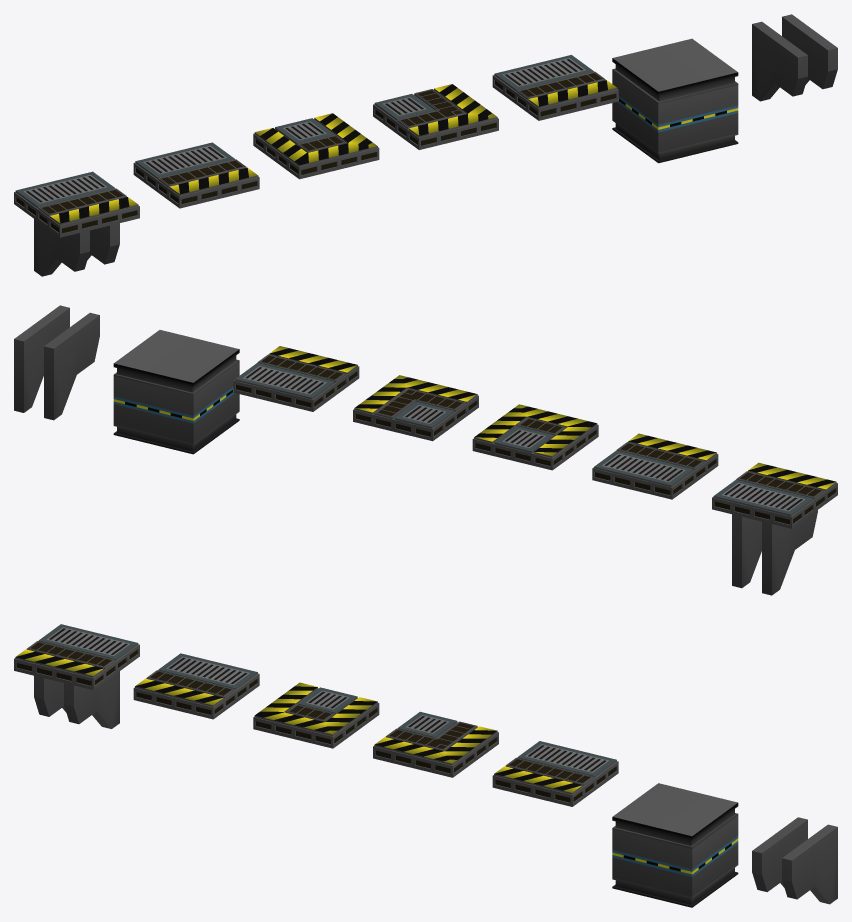
Rendered from PisoBorde.fbx.
3 views of the same model, one above another, from view 1: azimuth 30°, elevation 25°; view 2: azimuth 150°, elevation 25°; view 3: azimuth 330°, elevation 25° (orthographic).
Parts seen in each view (by area): view 1: BaseBorde01, PisoBordeCaida01, BaseBorde02, PisoBordeCaida03, PisoBordeCaida02, PisoBordeCaida005, PisoBordeCaida04; view 2: BaseBorde01, PisoBordeCaida01, BaseBorde02, PisoBordeCaida03, PisoBordeCaida02, PisoBordeCaida005, PisoBordeCaida04; view 3: BaseBorde01, PisoBordeCaida01, BaseBorde02, PisoBordeCaida03, PisoBordeCaida005, PisoBordeCaida02, PisoBordeCaida04.
Boxes of the visible parts, x1,y1,x2,y2 form: BaseBorde01: (612, 38, 738, 163); PisoBordeCaida01: (14, 171, 139, 276); BaseBorde02: (752, 14, 837, 101); PisoBordeCaida03: (253, 113, 379, 179); PisoBordeCaida02: (133, 142, 259, 208); PisoBordeCaida005: (492, 55, 618, 120); PisoBordeCaida04: (373, 84, 498, 149); BaseBorde01: (113, 330, 239, 454); PisoBordeCaida01: (712, 462, 837, 595); BaseBorde02: (14, 305, 99, 420); PisoBordeCaida03: (472, 404, 598, 470); PisoBordeCaida02: (592, 433, 718, 499); PisoBordeCaida005: (233, 346, 359, 411); PisoBordeCaida04: (353, 375, 478, 441); BaseBorde01: (612, 783, 738, 907); PisoBordeCaida01: (14, 624, 139, 728); BaseBorde02: (752, 817, 837, 904); PisoBordeCaida03: (253, 682, 379, 748); PisoBordeCaida005: (492, 741, 618, 806); PisoBordeCaida02: (133, 653, 259, 719); PisoBordeCaida04: (373, 711, 498, 777).
Bounding box in the file's own units: 384 × 40.16 × 39.37.
Materials: 1 (1 with a texture image).
